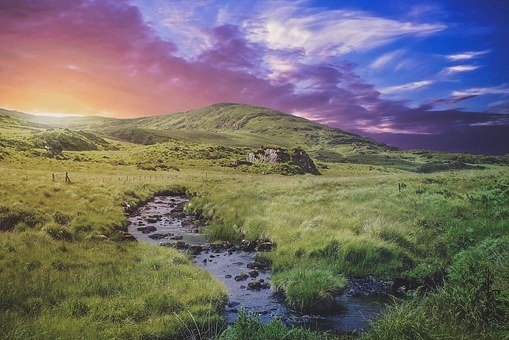field: (4, 143, 508, 340)
mountain: (5, 107, 405, 155)
sky: (2, 2, 506, 153)
